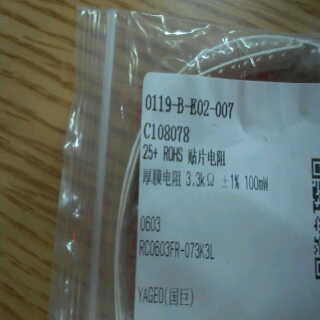3.3kO: (180, 167, 223, 189)
